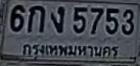3: (121, 8, 133, 34)
5: (72, 6, 86, 32), (105, 7, 118, 34)
6: (10, 4, 24, 31)
7: (90, 7, 103, 34)
A01: (27, 5, 44, 32)
A07: (50, 5, 64, 32)
BKK: (19, 40, 121, 60)
